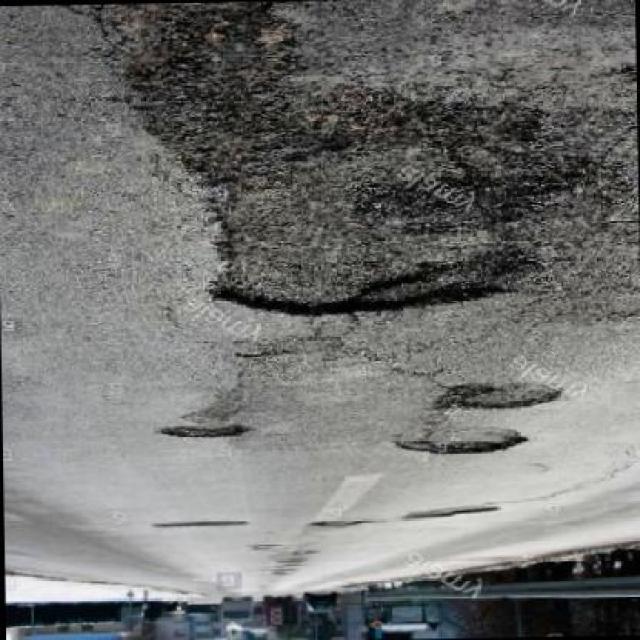pothole1: (194, 80, 601, 322), (428, 378, 564, 416), (388, 428, 529, 458), (389, 503, 500, 522), (153, 424, 250, 439), (146, 520, 249, 532), (302, 517, 380, 531), (288, 547, 315, 559)
